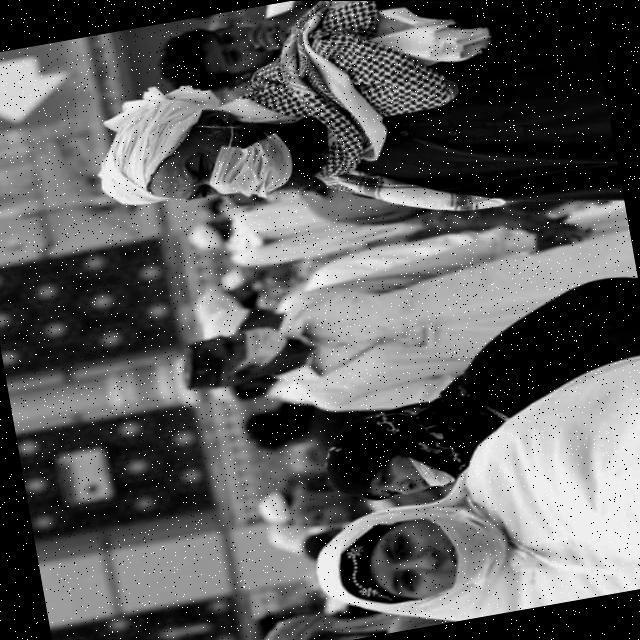mask: (219, 143, 297, 199), (242, 328, 286, 363)
no_gloves: (102, 112, 180, 205), (312, 536, 364, 614), (183, 336, 225, 389), (168, 33, 205, 80)
no_hairnet: (409, 524, 473, 596), (228, 27, 272, 72)
